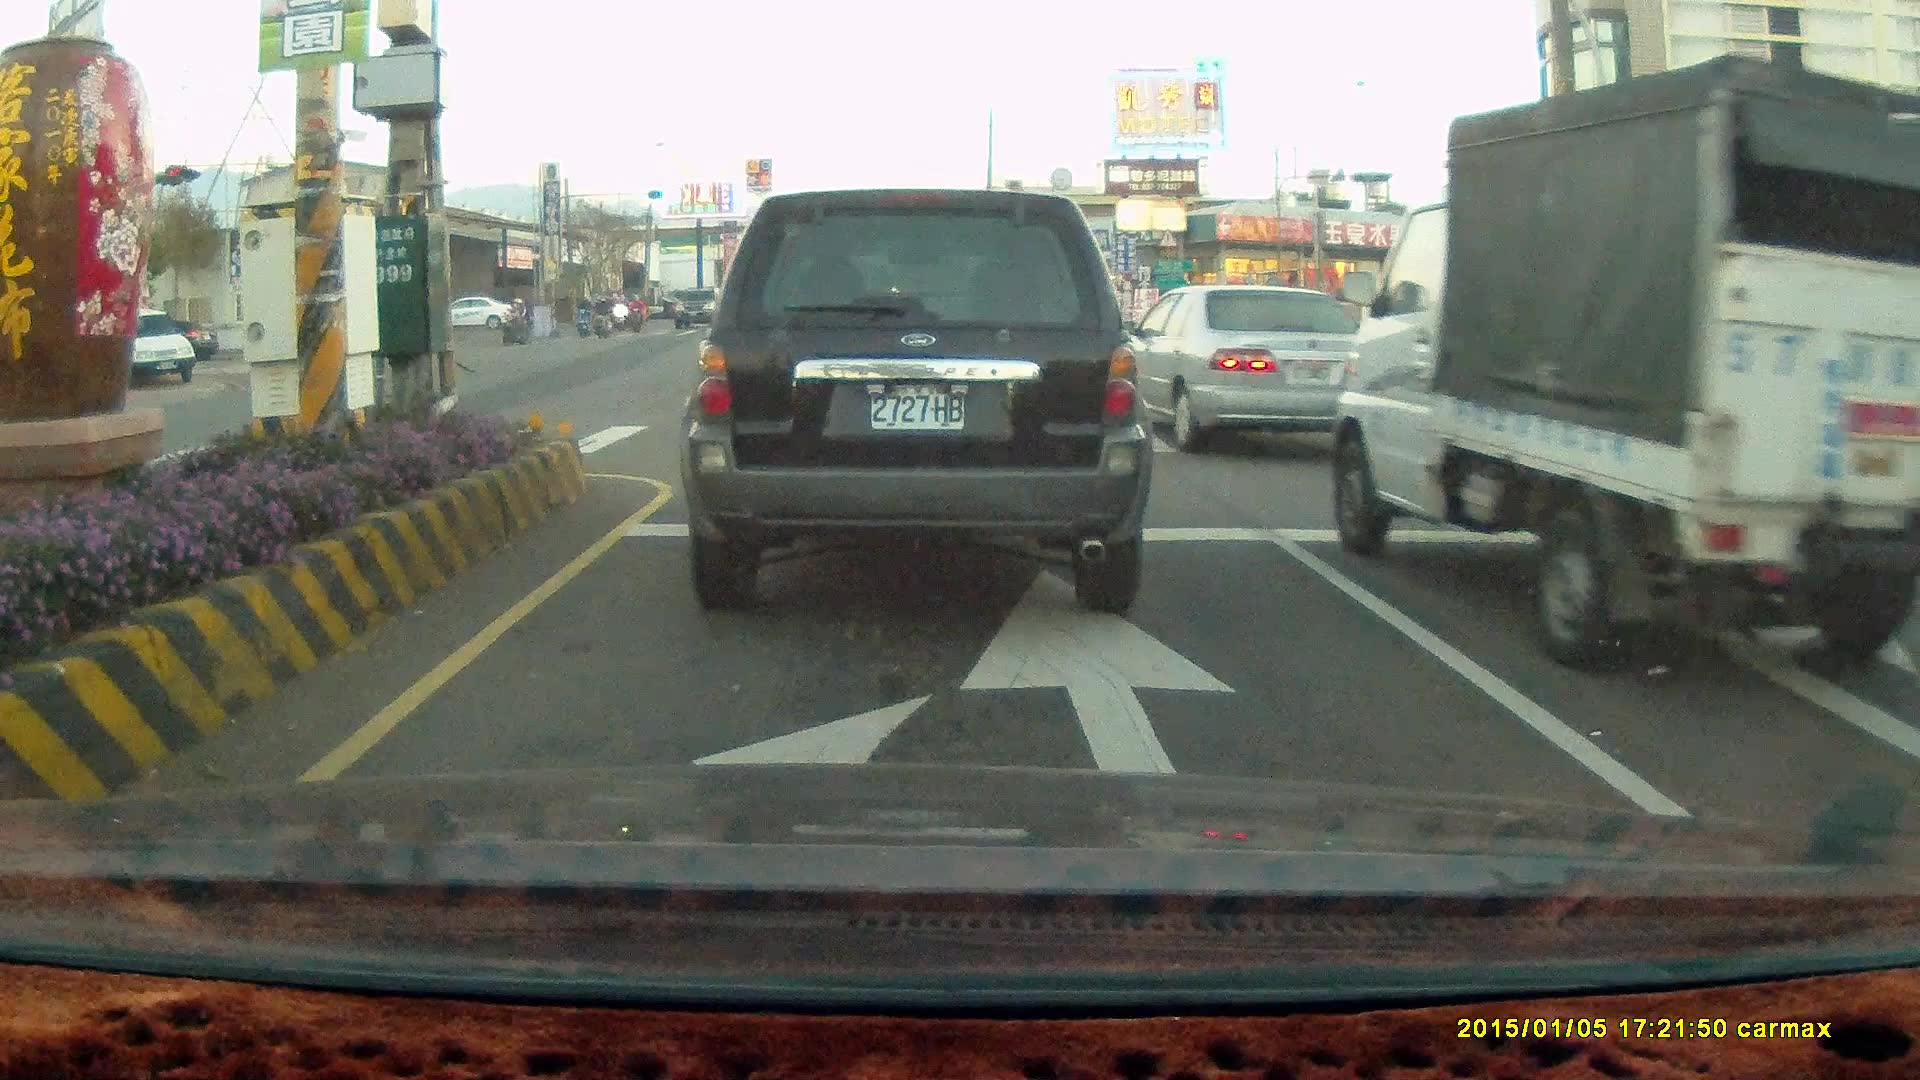rider: (498, 296, 531, 344), (590, 291, 617, 342), (573, 292, 595, 340), (625, 290, 647, 332)
vehicle: (1328, 51, 1920, 675), (674, 186, 1153, 609), (1111, 280, 1396, 454), (1111, 286, 1385, 458), (1693, 285, 1850, 372), (102, 309, 199, 390), (448, 299, 511, 334)
